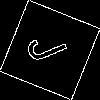J: (24, 24, 78, 66)
